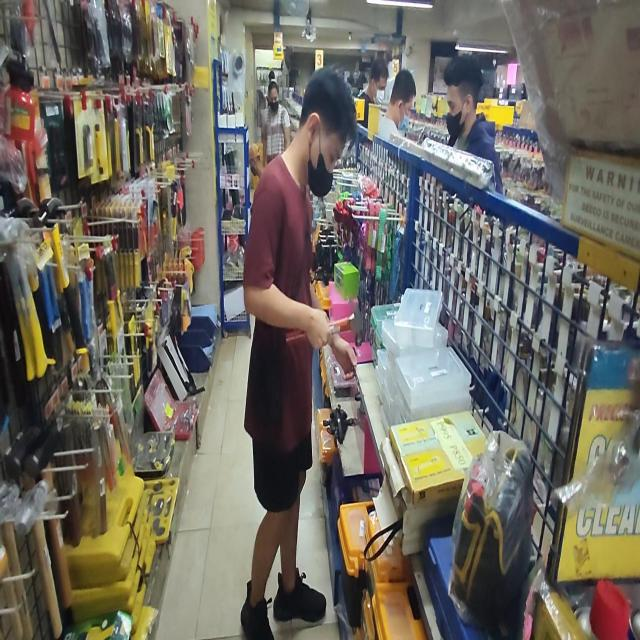hammer: (284, 307, 362, 347)
